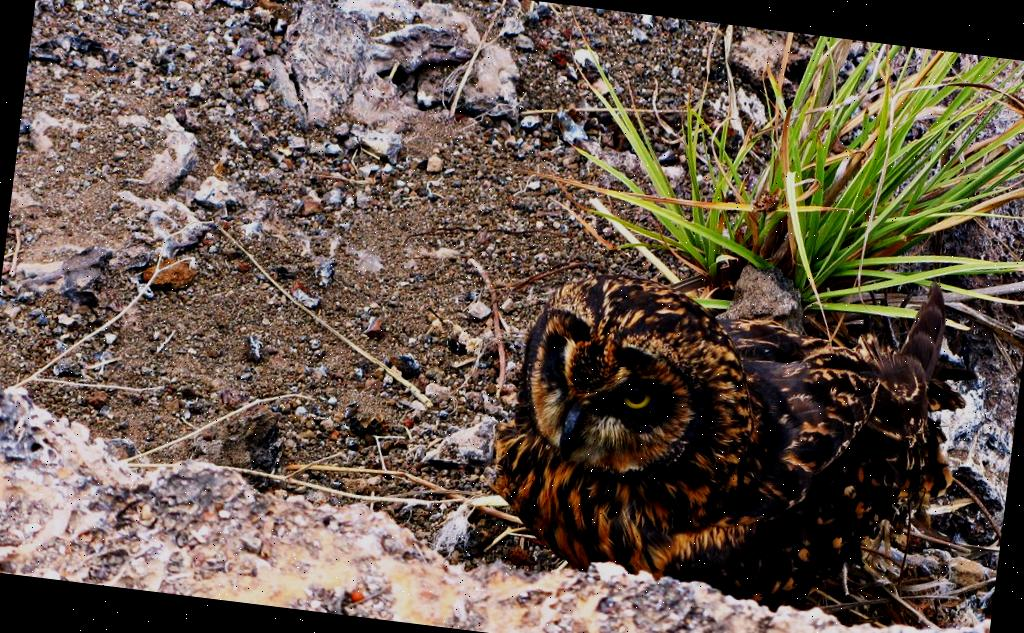Owl: (464, 244, 964, 623)
